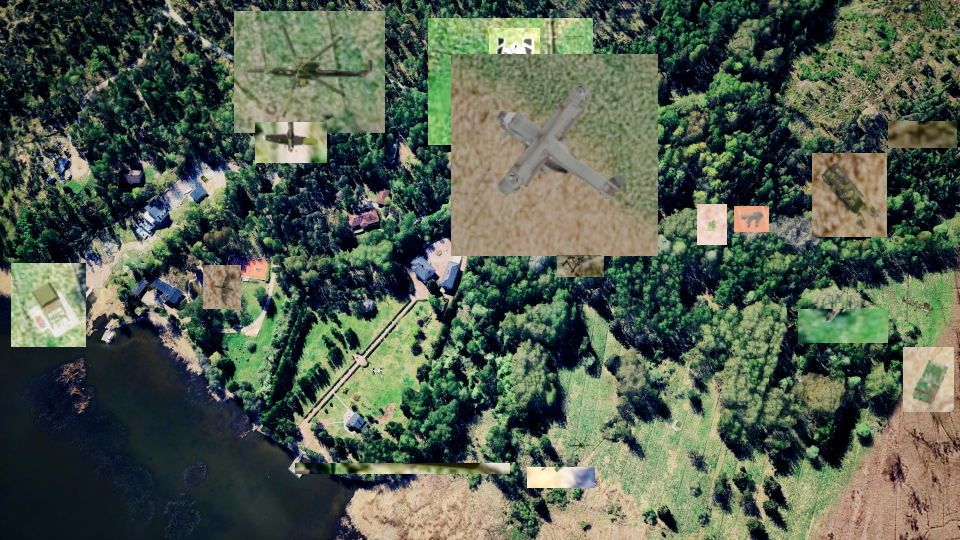condor: (451, 54, 658, 256)
hangar: (295, 463, 510, 474)
helicopter: (234, 11, 385, 133)
jammer: (903, 347, 954, 412)
jet_plane: (798, 309, 888, 343)
large_launcher: (428, 18, 593, 145)
large_tower: (557, 255, 604, 277)
medium_launcher: (888, 121, 957, 148)
medium_plane: (255, 122, 327, 163)
mine_roller: (812, 153, 887, 237)
small_launcher: (697, 204, 727, 245)
small_plane: (203, 265, 241, 309)
small_tower: (11, 263, 86, 347)
spacecraft: (489, 28, 540, 87)
ta-ta: (734, 206, 769, 232)
tank: (527, 467, 595, 488)
